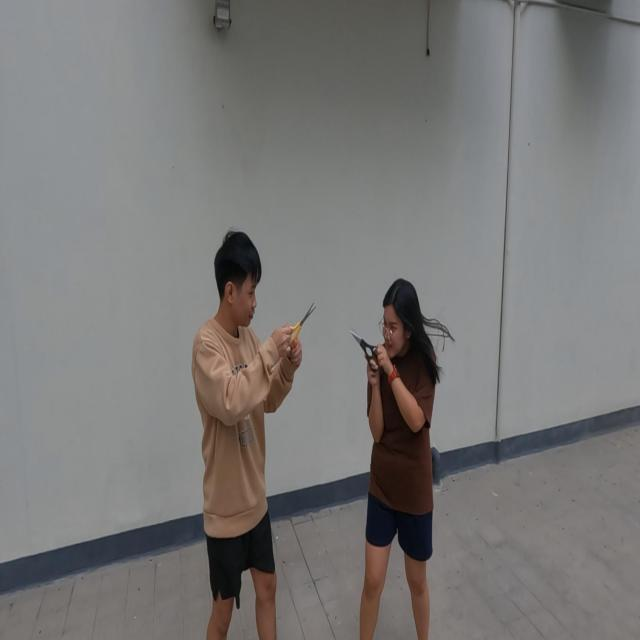scissor: (350, 328, 384, 374), (286, 302, 316, 348)
